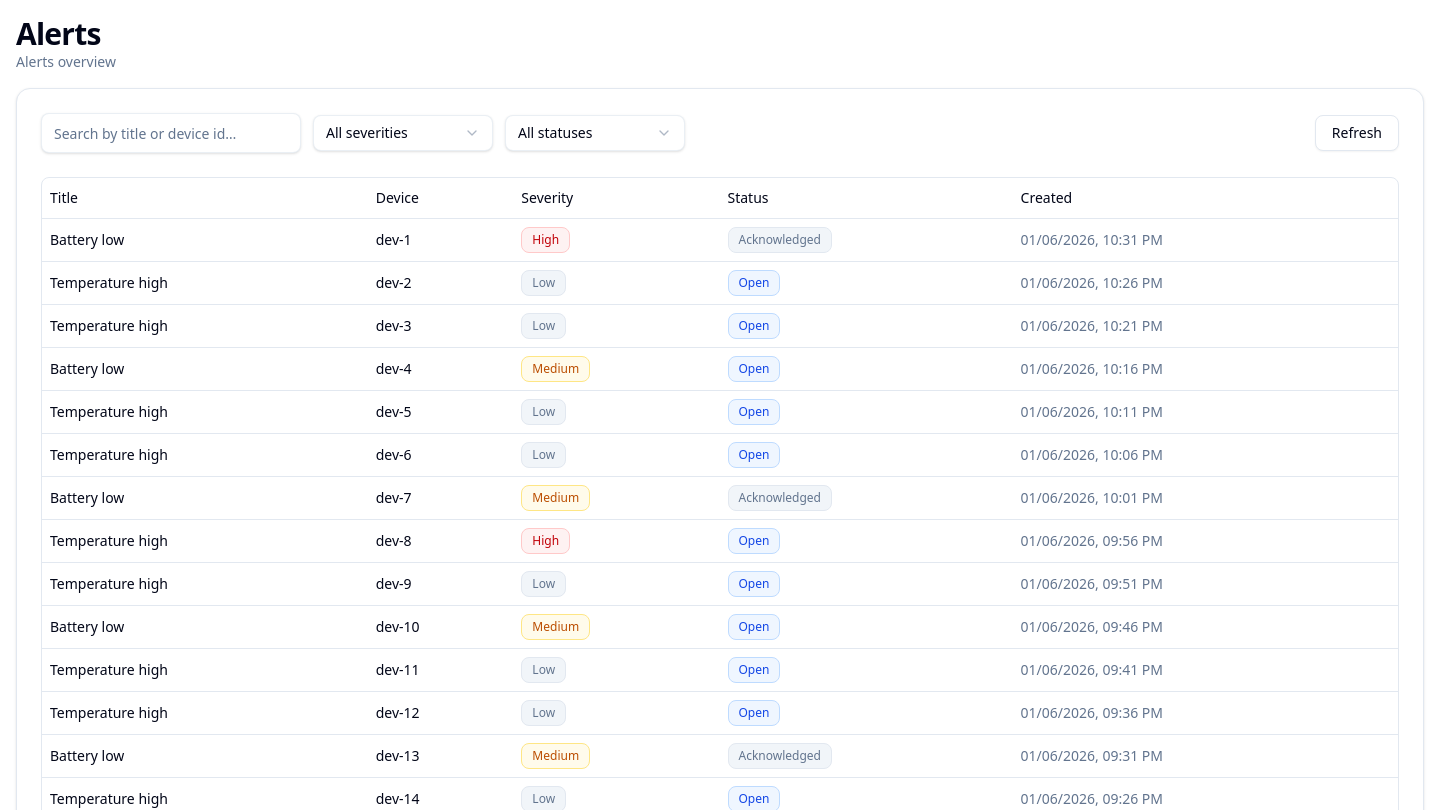
Scenario: filter by status = Acknowledged updates results
Step 1. Click the dropdown named "filter by status" → (595, 133), box left=505, top=115, right=685, bottom=151
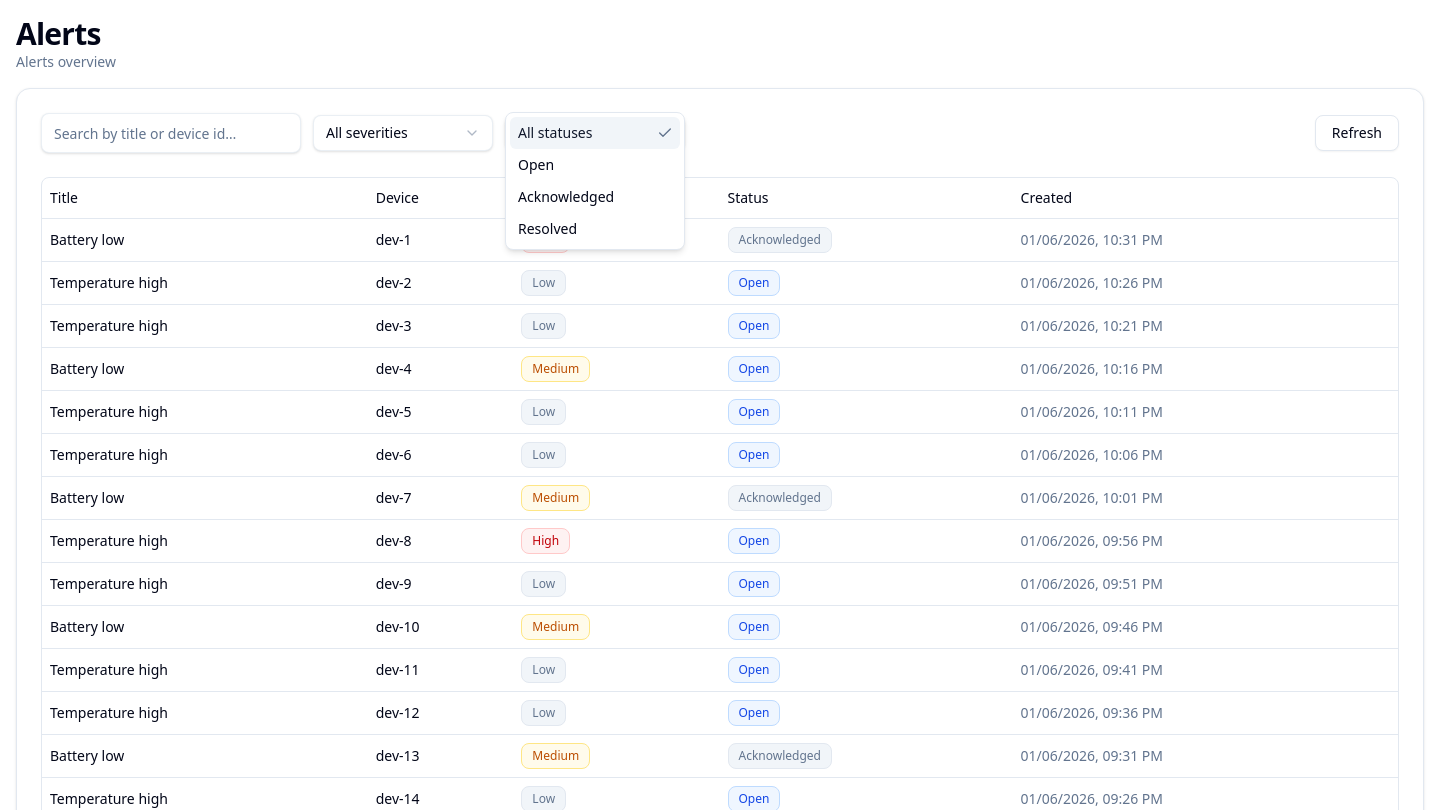
Step 2. Click the option "Acknowledged" → (566, 196), box left=518, top=187, right=614, bottom=206
(page scrolled)
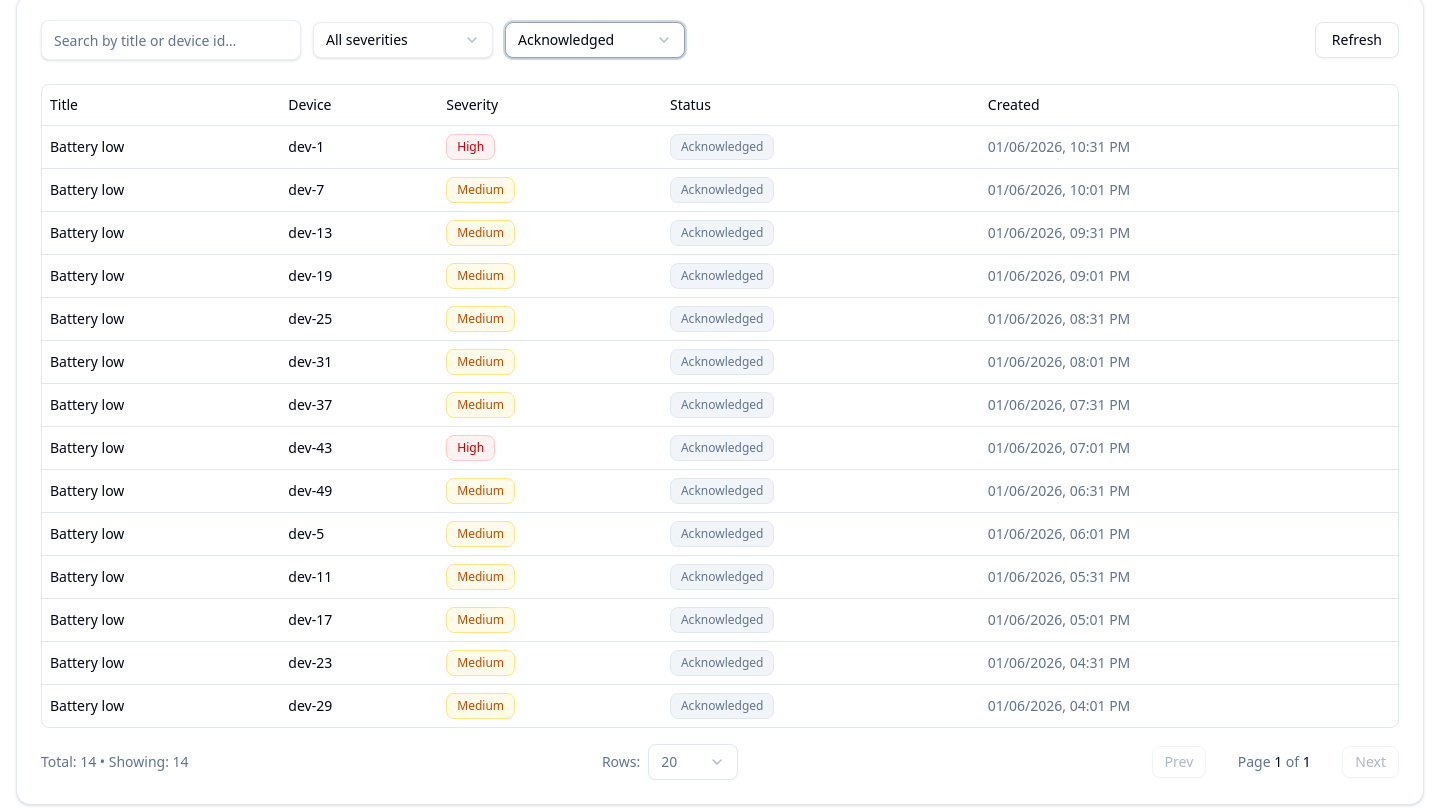
Expected: the text "Acknowledged" in the row of "dev-25" is shown, left=681, top=310, right=764, bottom=326
Expected: the text "Acknowledged" in the row of "dev-31" is shown, left=681, top=352, right=764, bottom=370
Expected: the text "Acknowledged" in the row of "dev-37" is shown, left=681, top=396, right=764, bottom=412
